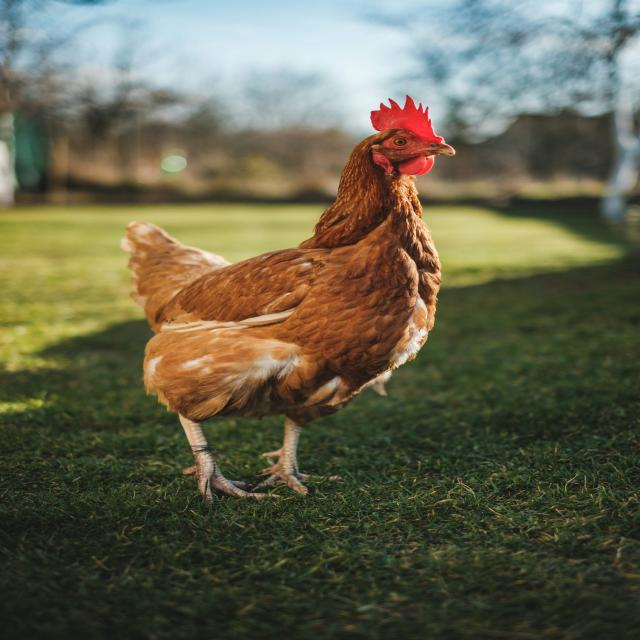Chicken: (101, 107, 516, 516)
